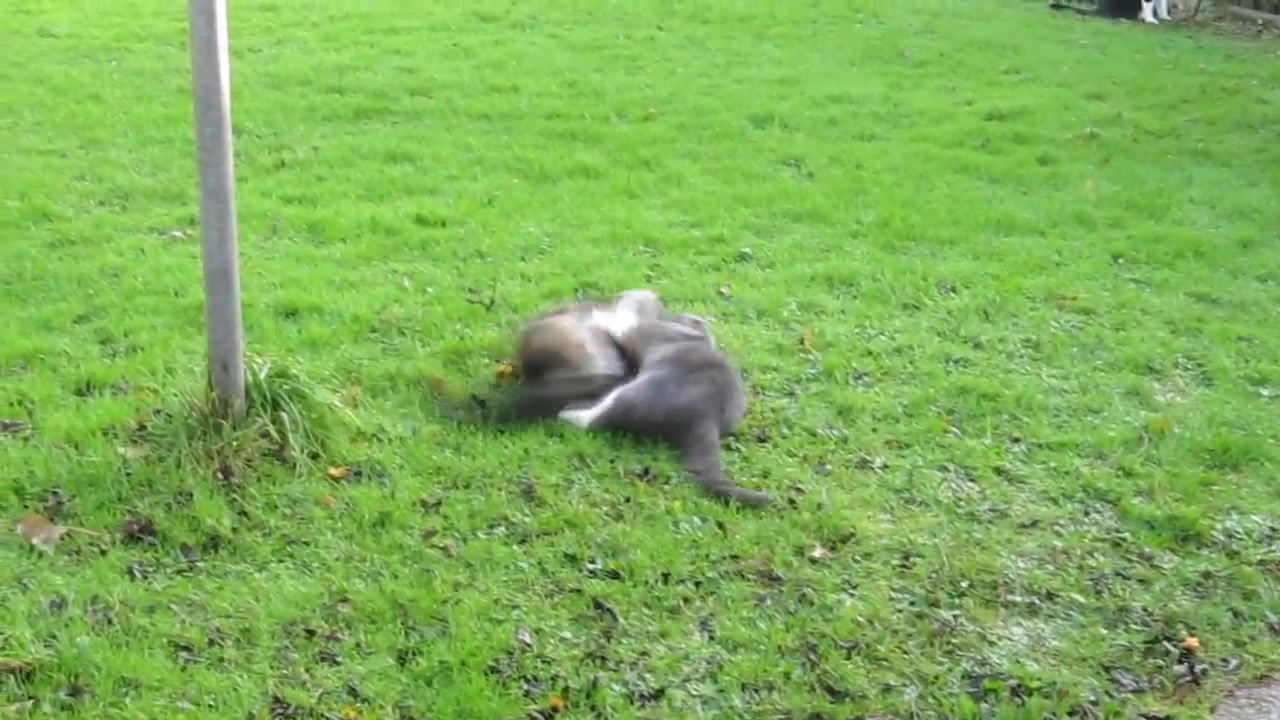cat: (560, 289, 774, 510)
